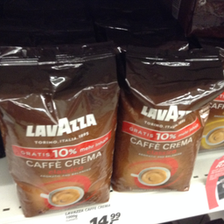coffee: (1, 41, 115, 218), (113, 47, 224, 193)
